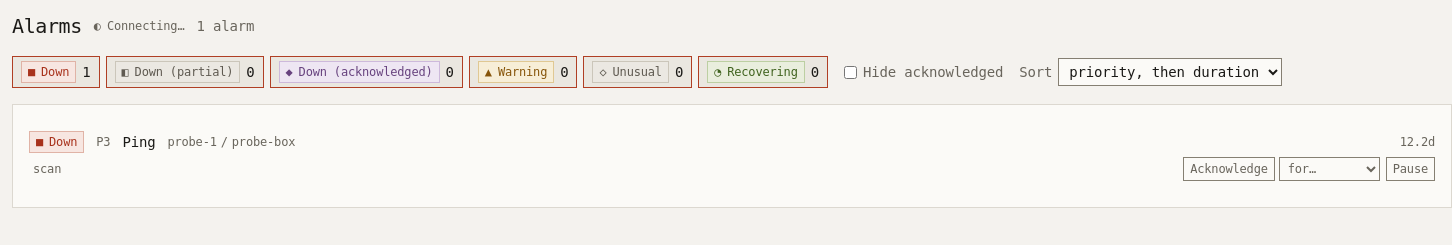
Scenario: a refused action on an alarm (U-56) › gives no id when the core never answered
Click the button "Acknowledge".
click(1229, 169)  # box left=1183, top=157, right=1275, bottom=181
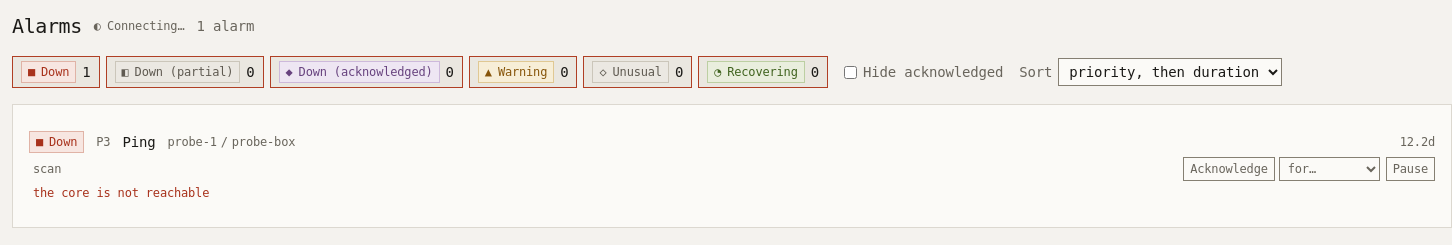
Now the message "the core is not reachable" is shown, box left=33, top=186, right=209, bottom=200
